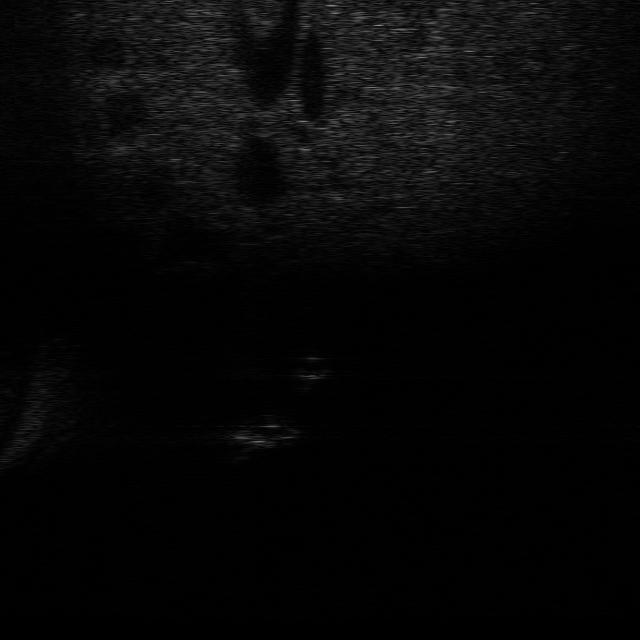ball: (289, 354, 335, 382)
square cage: (224, 427, 282, 459)
tyre: (246, 418, 305, 441)
